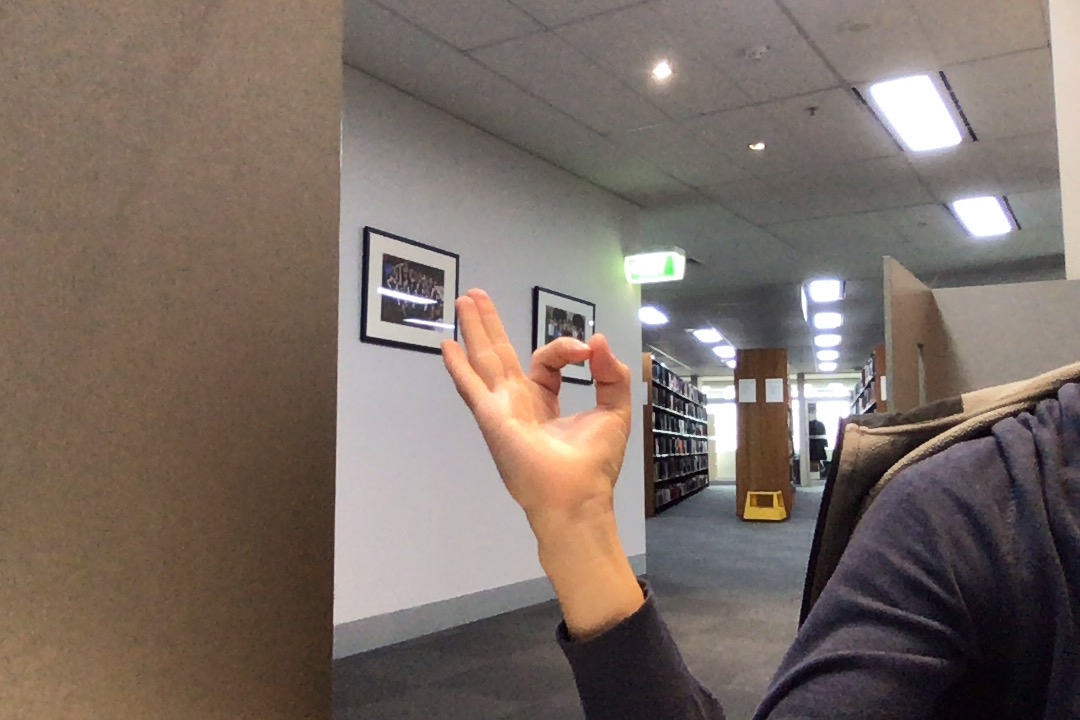oksign: (426, 279, 640, 519)
